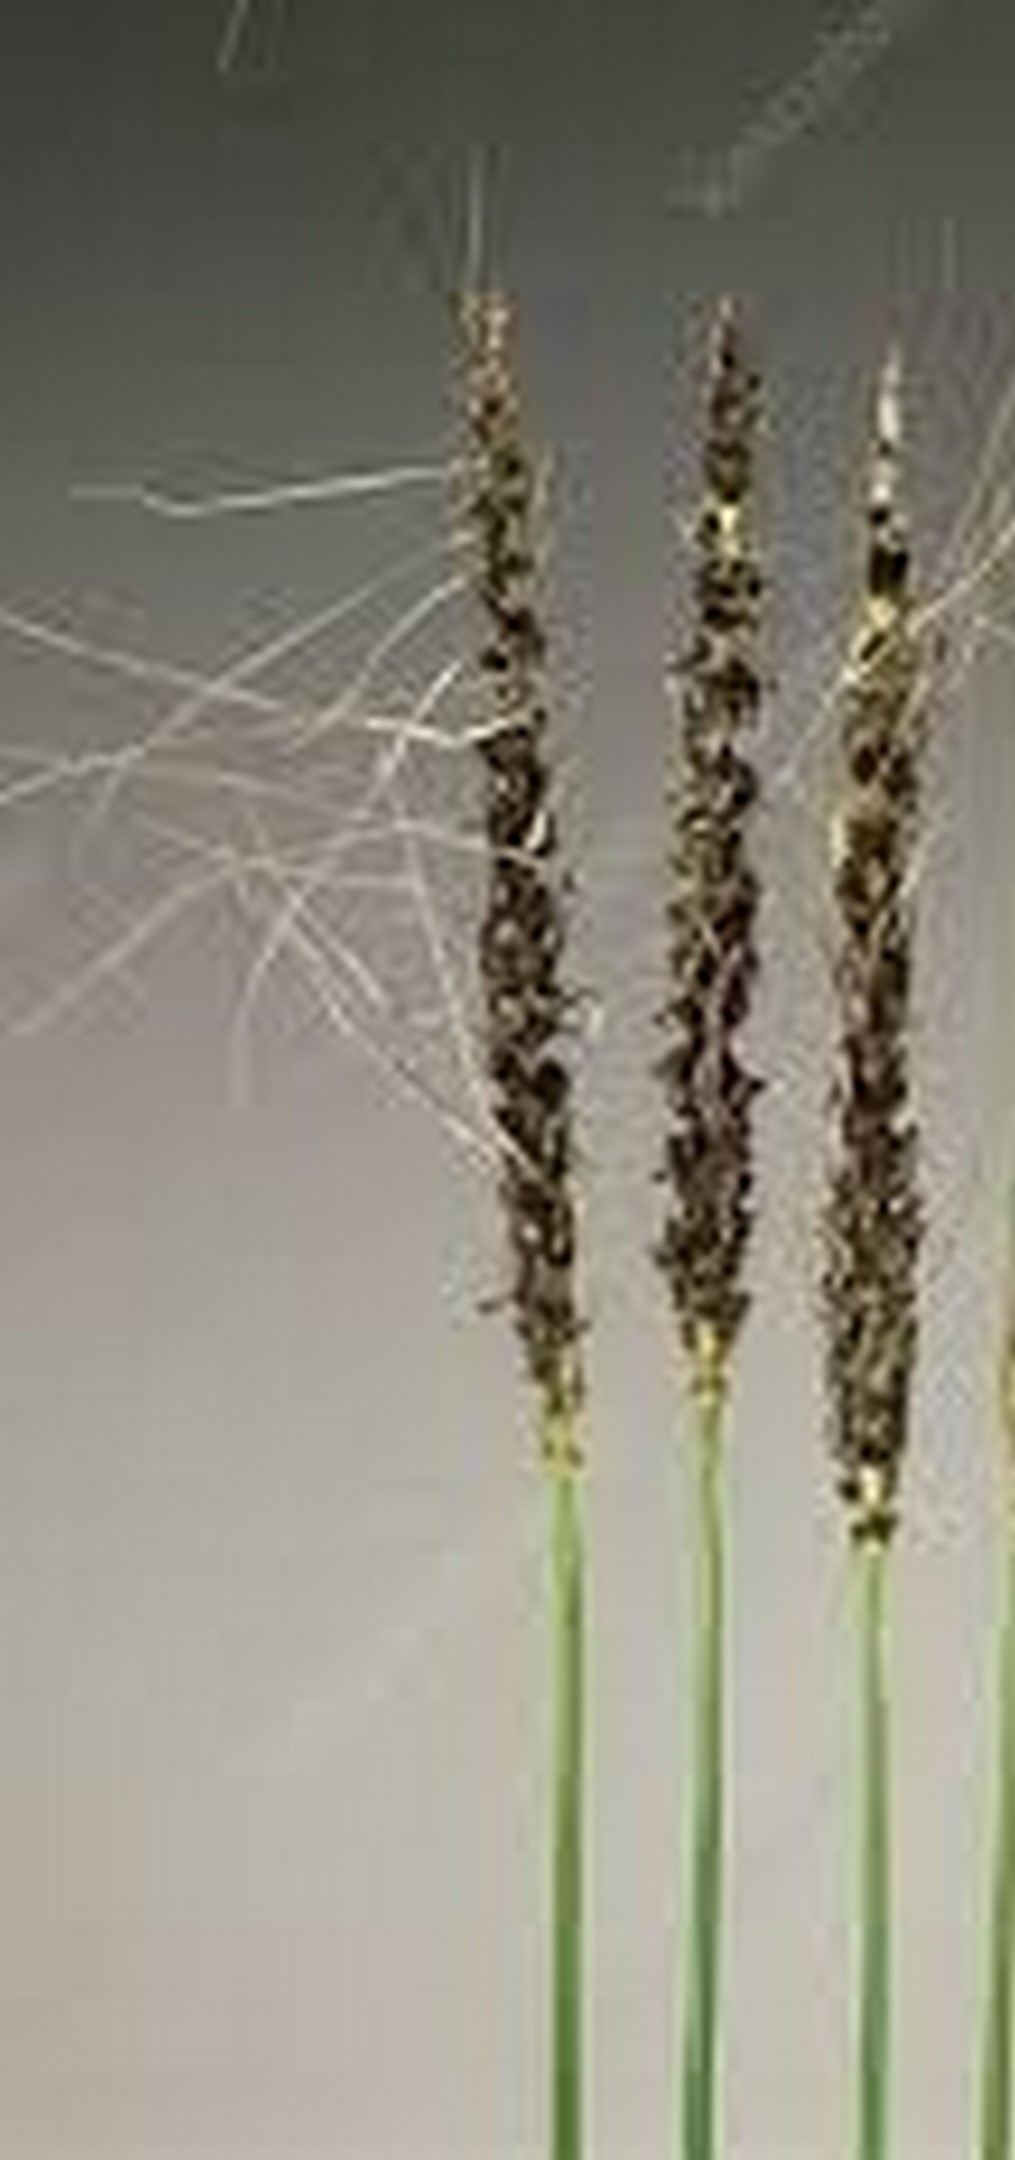Wheat Loose Smut: (359, 289, 1015, 1429)
